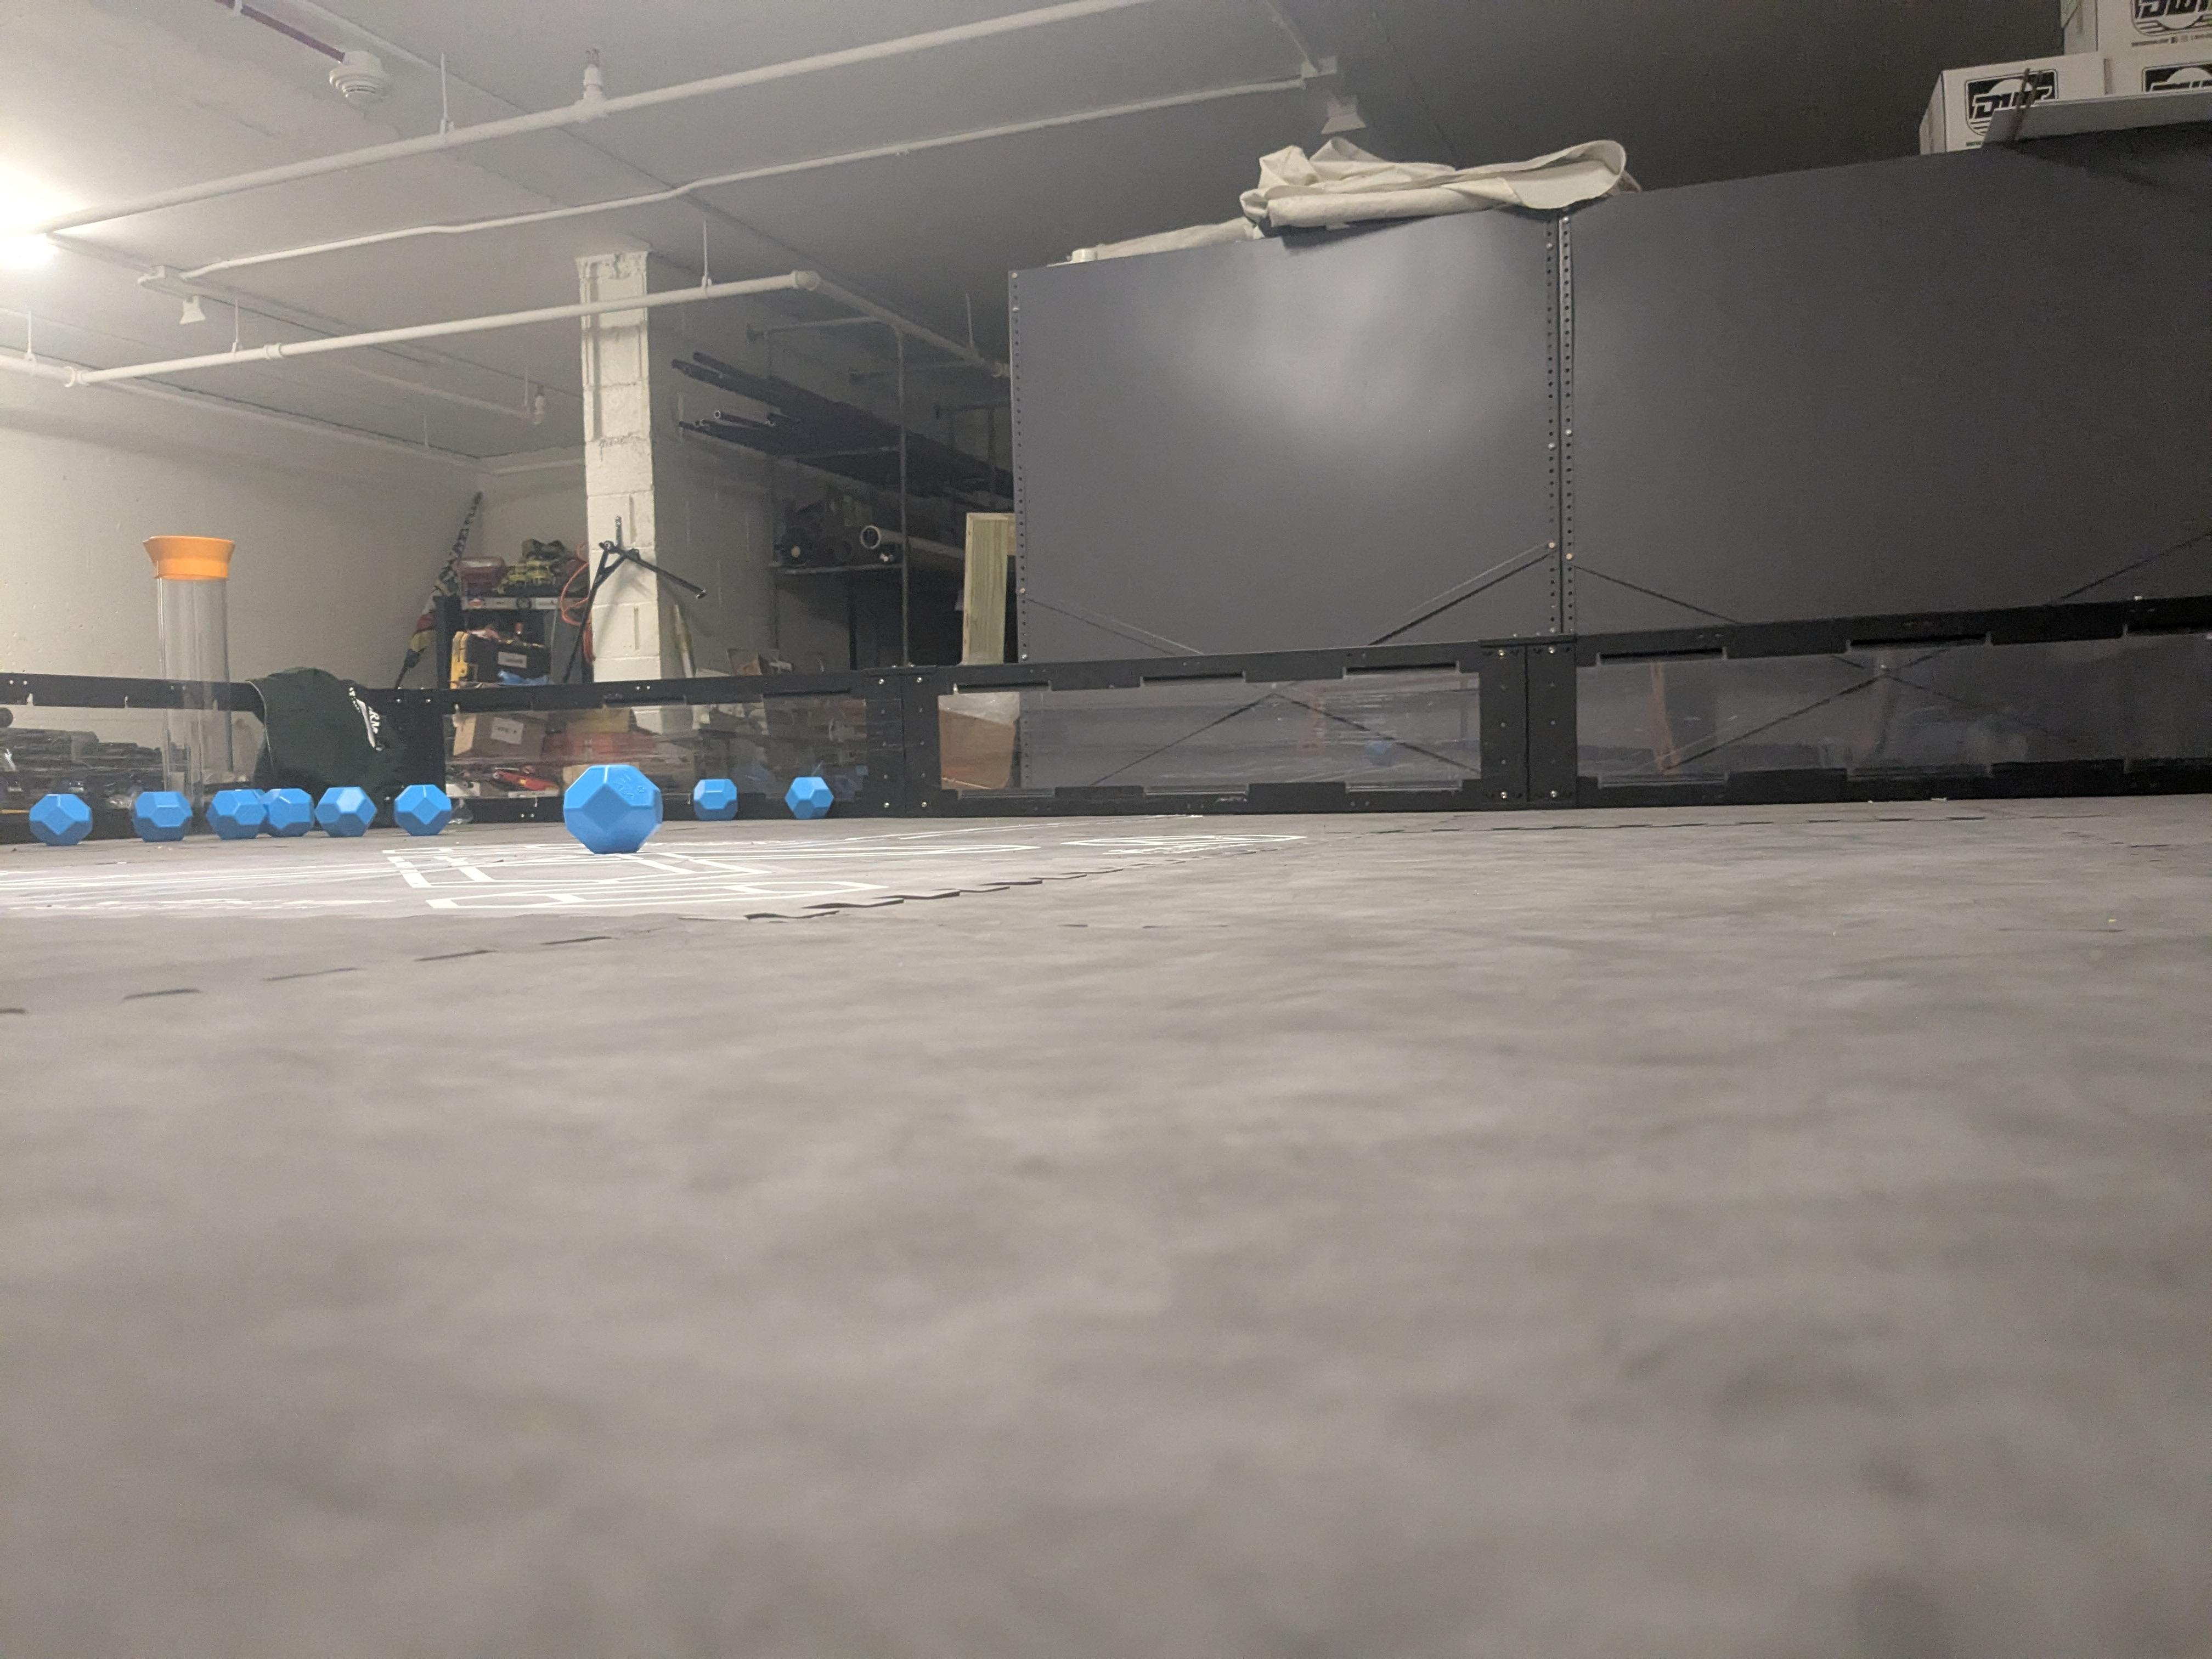Vex-Pieces-BLUE: (563, 767, 660, 850), (30, 795, 92, 845), (314, 786, 374, 836), (206, 789, 266, 840), (132, 791, 192, 842), (394, 784, 451, 835), (265, 788, 314, 836), (784, 775, 834, 819), (691, 779, 738, 821)
